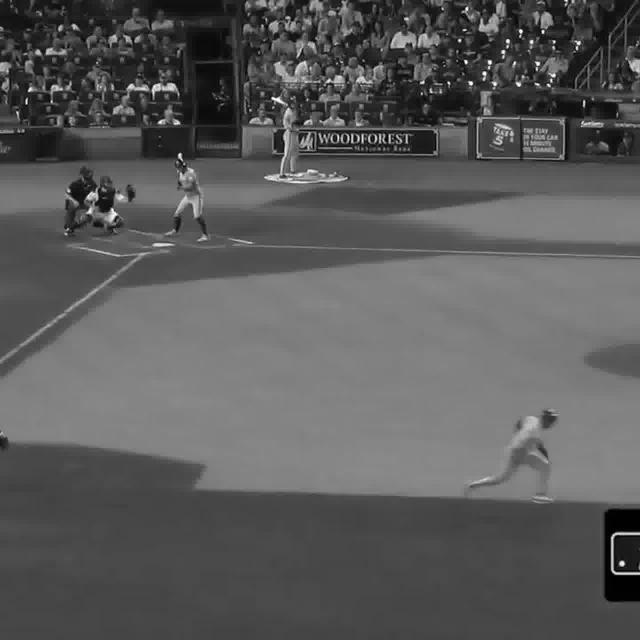base: (152, 240, 177, 248)
baseball_glove: (125, 185, 139, 202)
bat: (270, 96, 302, 114), (175, 152, 182, 192)
shoe: (530, 491, 560, 505), (195, 233, 211, 243), (104, 224, 117, 236), (163, 229, 180, 237), (66, 227, 76, 240)
